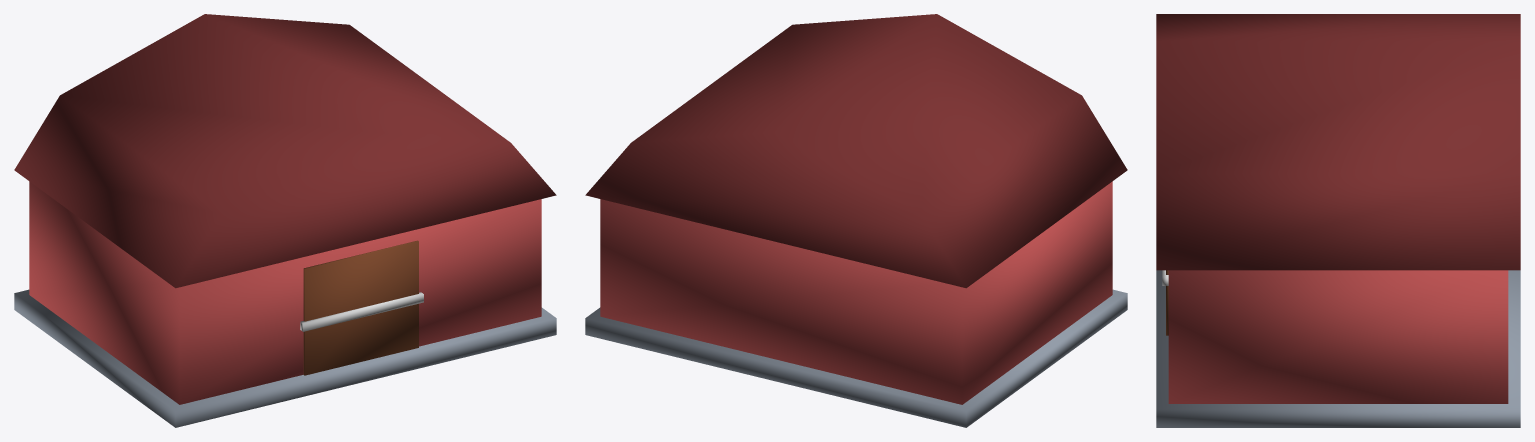
Rendered from district-barn.glb.
3 renders of one model, left to right at view 1: azimuth 30°, elevation 25°; view 2: azimuth 150°, elevation 25°; view 3: azimuth 270°, elevation 25°, orthographic. The views are drawn at different scales.
Parts seen in each view (by area): view 1: world; view 2: world; view 3: world.
Boxes of the visible parts, x1,y1,x2,y2 form: world: [14, 14, 556, 427]; world: [585, 14, 1127, 427]; world: [1156, 14, 1520, 427].
Size of the model in its own units: 12 by 7.5 by 8.8.
